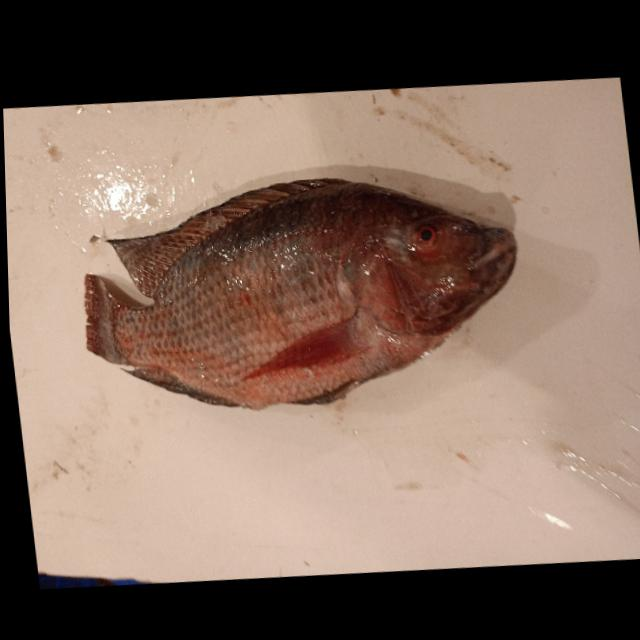Tilapia: (67, 148, 536, 433)
